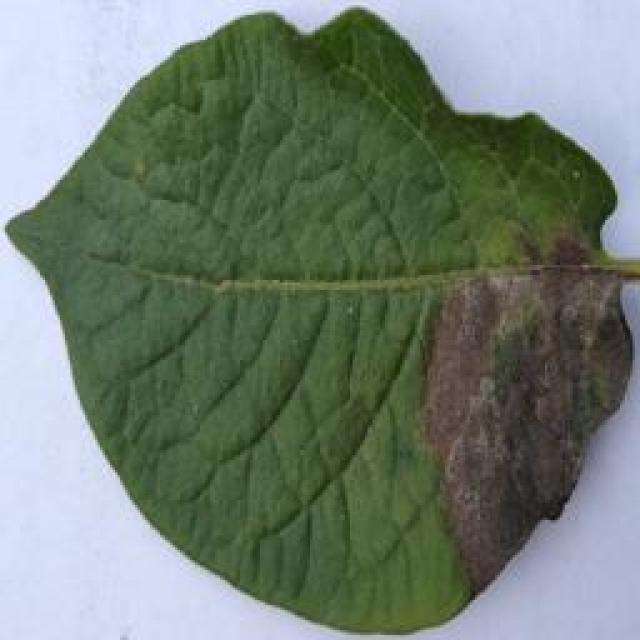Potato_Late_Blight: (5, 4, 636, 630)
